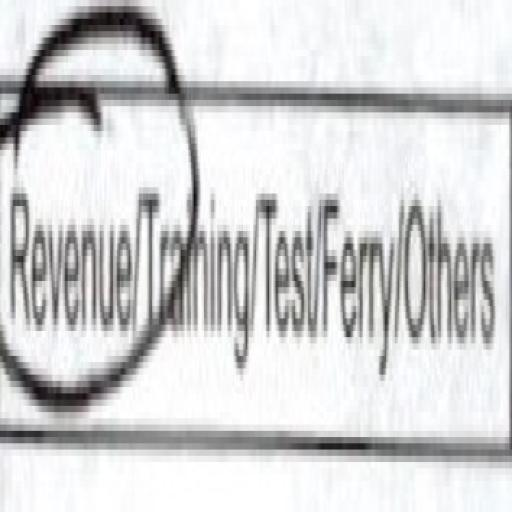check: (2, 13, 138, 450)
